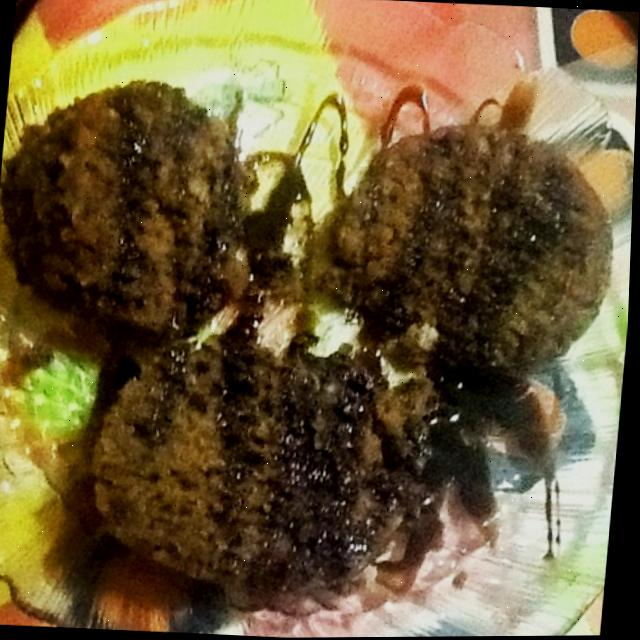蛋糕甜品: (0, 2, 640, 640)
